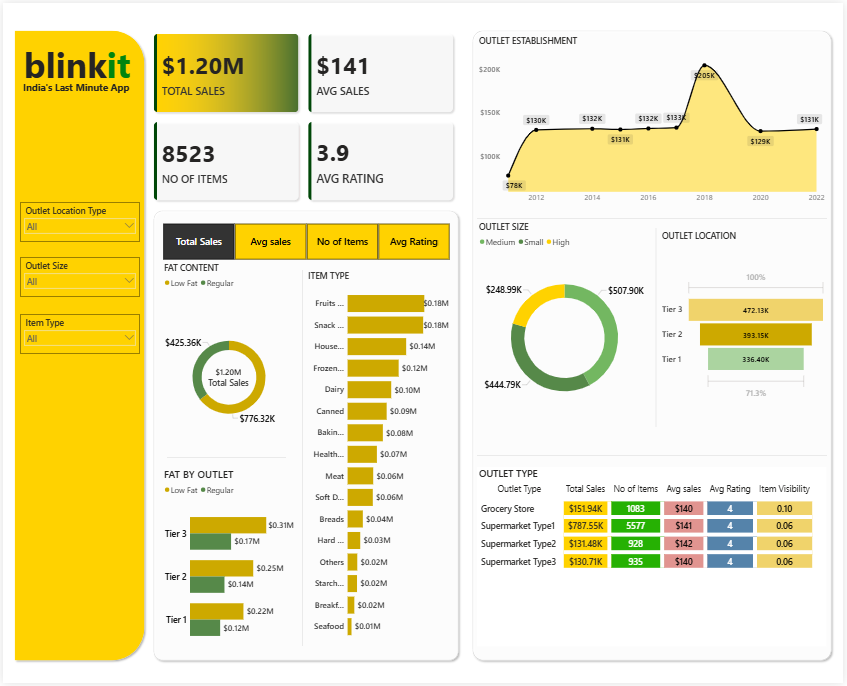

What the dashboard file says about the page in this screenshot:
{"tool":"powerbi","page":{"name":"Page 1","canvas":[2100,1700],"ordinal":0},"visuals":[{"type":"shape","box":[20,60,342.5,1592.5],"z":0},{"type":"textbox","box":[28.7,190.3,310.2,49.5],"z":1000},{"type":"textbox","box":[46.9,88.6,289.3,138.2],"z":2000},{"type":"cardVisual","fields":{"Data":["BlinkIT Grocery Data.Total Sales","BlinkIT Grocery Data.Avg sales","BlinkIT Grocery Data.No of Items","BlinkIT Grocery Data.Avg Rating"]},"box":[360,60,782.5,450],"z":3000},{"type":"shape","box":[367.5,510,780,1142.5],"z":4000},{"type":"donutChart","title":"FAT CONTENT","fields":{"Y":["BlinkIT Grocery Data.Total Sales"],"Category":["BlinkIT Grocery Data.Item Fat Content"]},"box":[397.5,647.5,335,512.5],"z":5000},{"type":"slicer","fields":{"Values":["Metrics.Metrics"]},"box":[375,545,765,102.5],"z":6000},{"type":"cardVisual","fields":{"Data":["BlinkIT Grocery Data.Total Sales"]},"box":[495,870,137.5,130],"z":7000},{"type":"clusteredBarChart","title":"FAT BY OUTLET","fields":{"Y":["BlinkIT Grocery Data.Total Sales"],"Category":["BlinkIT Grocery Data.Outlet Location Type"],"Series":["BlinkIT Grocery Data.Item Fat Content"]},"box":[397.5,1160,335,475],"z":8000},{"type":"shape","box":[410,1112.5,297.5,47.5],"z":9000},{"type":"shape","box":[735,667.5,27.5,940],"z":10000},{"type":"barChart","title":"ITEM TYPE","fields":{"Y":["BlinkIT Grocery Data.Total Sales"],"Category":["BlinkIT Grocery Data.Item Type"]},"box":[757.5,667.5,362.5,940],"z":11000},{"type":"shape","box":[1165,60,915,1592.5],"z":12000},{"type":"lineChart","title":"OUTLET ESTABLISHMENT","fields":{"Category":["BlinkIT Grocery Data.Outlet Establishment Year"],"Y":["BlinkIT Grocery Data.Total Sales"]},"box":[1185,80,875,430],"z":13000},{"type":"shape","box":[1185,510,875,57.5],"z":14000},{"type":"donutChart","title":"OUTLET SIZE","fields":{"Y":["BlinkIT Grocery Data.Total Sales"],"Category":["BlinkIT Grocery Data.Outlet Size"]},"box":[1185,545,437.5,520],"z":15000},{"type":"shape","box":[1622.5,562.5,20,497.5],"z":16000},{"type":"funnel","title":"OUTLET LOCATION","fields":{"Y":["Sum(BlinkIT Grocery Data.Sales)"],"Category":["BlinkIT Grocery Data.Outlet Location Type"]},"box":[1642.5,567.5,417.5,492.5],"z":17000},{"type":"shape","box":[1185,1102.5,875,57.5],"z":18000},{"type":"pivotTable","title":"OUTLET TYPE","fields":{"Rows":["BlinkIT Grocery Data.Outlet Type"],"Values":["BlinkIT Grocery Data.Total Sales","BlinkIT Grocery Data.No of Items","BlinkIT Grocery Data.Avg sales","BlinkIT Grocery Data.Avg Rating","Avg(BlinkIT Grocery Data.Item Visibility)"]},"box":[1185,1160,872.5,447.5],"z":19000},{"type":"slicer","fields":{"Values":["BlinkIT Grocery Data.Outlet Location Type"]},"box":[42.5,497.5,300,100],"z":20000},{"type":"slicer","fields":{"Values":["BlinkIT Grocery Data.Outlet Size"]},"box":[42.5,635,300,100],"z":21000},{"type":"slicer","fields":{"Values":["BlinkIT Grocery Data.Item Type"]},"box":[42.5,777.5,300,100],"z":22000}]}

Visuals, with their boxes in screenshot pixels (x1, y1, x2, y2), scaled from the page's 2100x1700 canvas onto the 847x686 screenshot:
shape: (8,24,146,667)
textbox: (12,77,137,97)
textbox: (19,36,136,92)
cardVisual - BlinkIT Grocery Data.Total Sales x BlinkIT Grocery Data.Avg sales: (145,24,461,206)
shape: (148,206,463,667)
"FAT CONTENT" donutChart: (160,261,295,468)
slicer - Metrics.Metrics: (151,220,460,261)
cardVisual - BlinkIT Grocery Data.Total Sales: (200,351,255,404)
"FAT BY OUTLET" clusteredBarChart: (160,468,295,660)
shape: (165,449,285,468)
shape: (296,269,308,649)
"ITEM TYPE" barChart: (306,269,452,649)
shape: (470,24,839,667)
"OUTLET ESTABLISHMENT" lineChart: (478,32,831,206)
shape: (478,206,831,229)
"OUTLET SIZE" donutChart: (478,220,654,430)
shape: (654,227,662,428)
"OUTLET LOCATION" funnel: (662,229,831,428)
shape: (478,445,831,468)
"OUTLET TYPE" pivotTable: (478,468,830,649)
slicer - BlinkIT Grocery Data.Outlet Location Type: (17,201,138,241)
slicer - BlinkIT Grocery Data.Outlet Size: (17,256,138,297)
slicer - BlinkIT Grocery Data.Item Type: (17,314,138,354)
